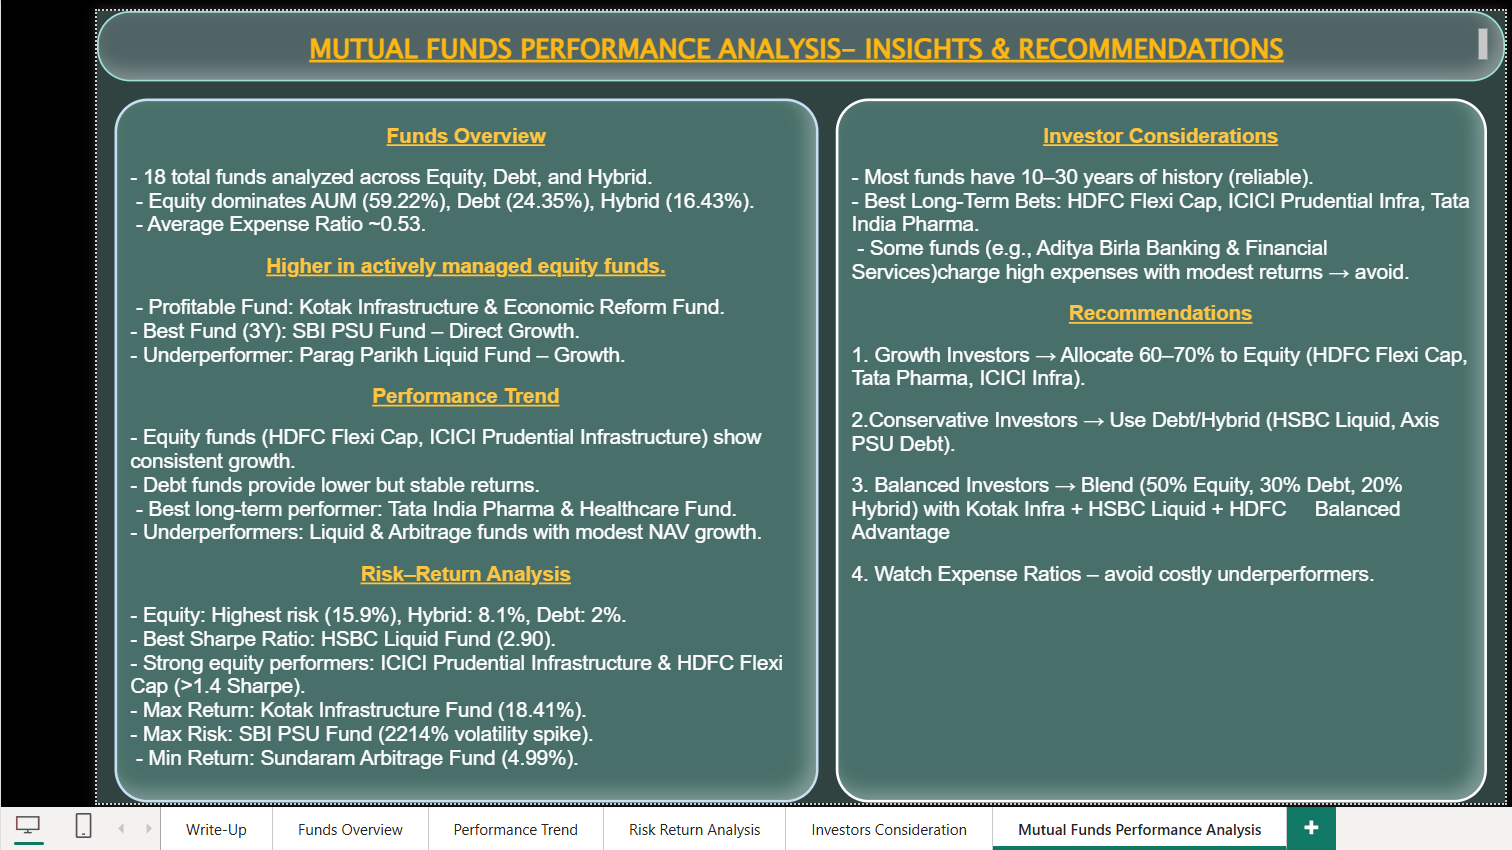

The dashboard page shown, as its layout file describes it:
{"tool":"powerbi","page":{"name":"Mutual Funds Performance Analysis","canvas":[1280,720],"ordinal":5},"visuals":[{"type":"textbox","box":[16,80,640,640],"z":0},{"type":"textbox","box":[0,0,1280,64],"z":1},{"type":"textbox","box":[672,80,592,640],"z":2}]}

Visuals, with their boxes on the page's 1280x720 design canvas (x1, y1, x2, y2). These are canvas units, not pixel positions in the 1512x850 screenshot, which may show the page scaled, cropped or inside an application window:
textbox: rect(16, 80, 656, 720)
textbox: rect(0, 0, 1280, 64)
textbox: rect(672, 80, 1264, 720)
